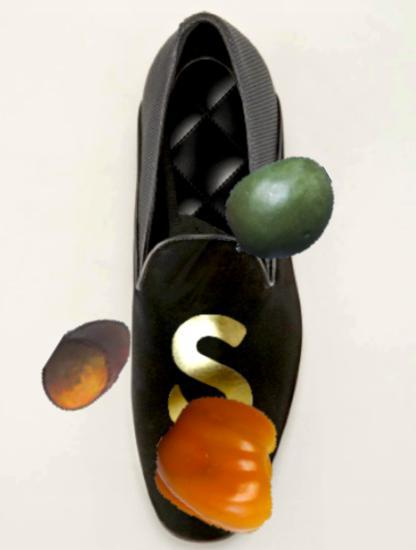Hazelnut: (32, 308, 143, 419)
Mango: (223, 152, 340, 269)
Pepper: (157, 395, 292, 530)
